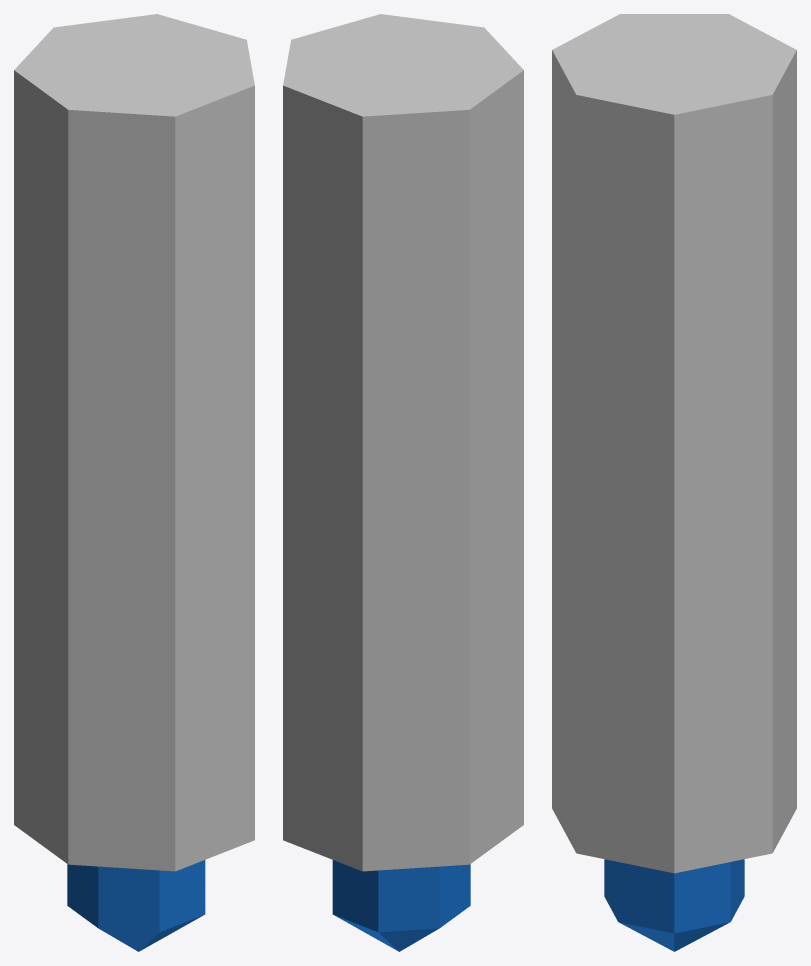
Rendered from SM_overhead_lamp.fbx.
The picture shows the model from 3 angles, left to right: view 1: azimuth 30°, elevation 25°; view 2: azimuth 150°, elevation 25°; view 3: azimuth 270°, elevation 25°; orthographic projection.
Parts seen in each view (by area): view 1: overhead_lamp; view 2: overhead_lamp; view 3: overhead_lamp.
Boxes of the visible parts, <box> form: overhead_lamp: <box>14,14,254,951</box>; overhead_lamp: <box>283,14,523,951</box>; overhead_lamp: <box>552,14,796,951</box>.
Bounding box in the file's own units: 28.51 × 117 × 29.25.
